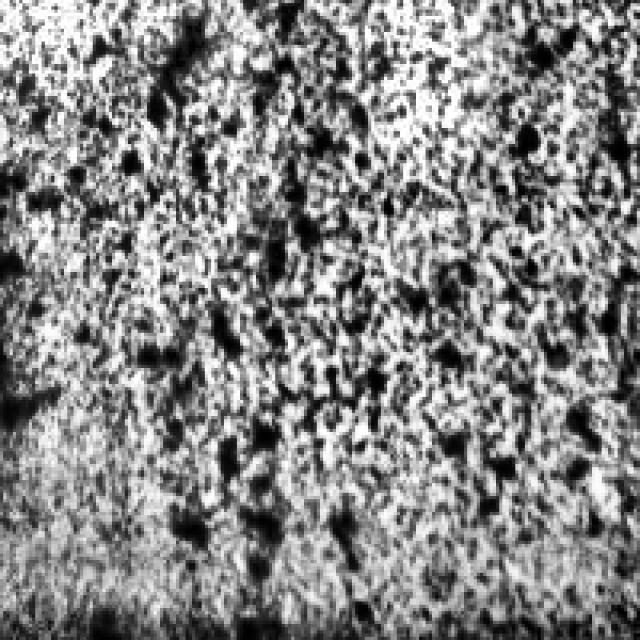Rolled_in_Scale: (39, 6, 630, 548)
